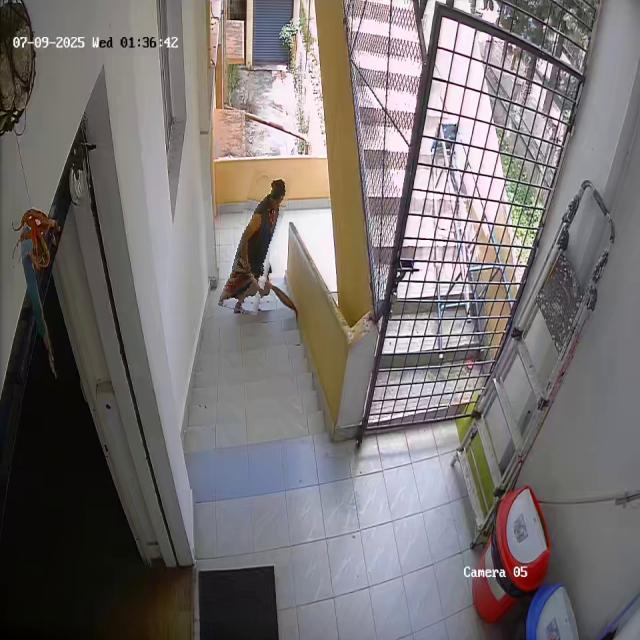person: (227, 171, 285, 314)
